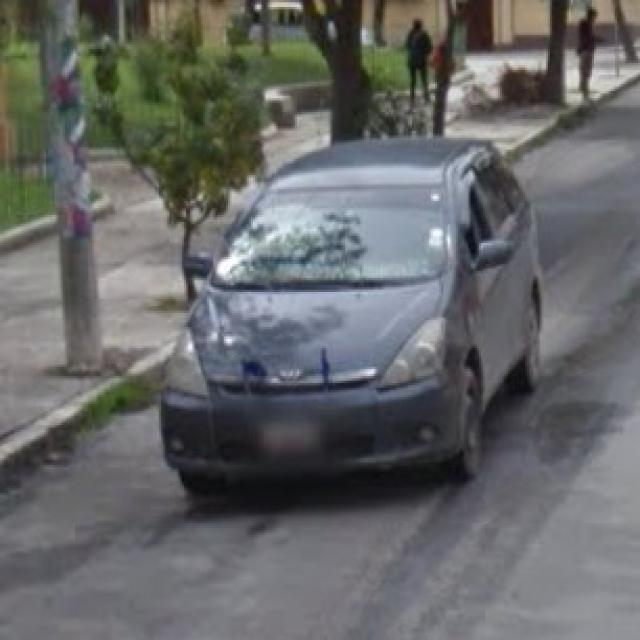cars: (171, 148, 538, 519)
